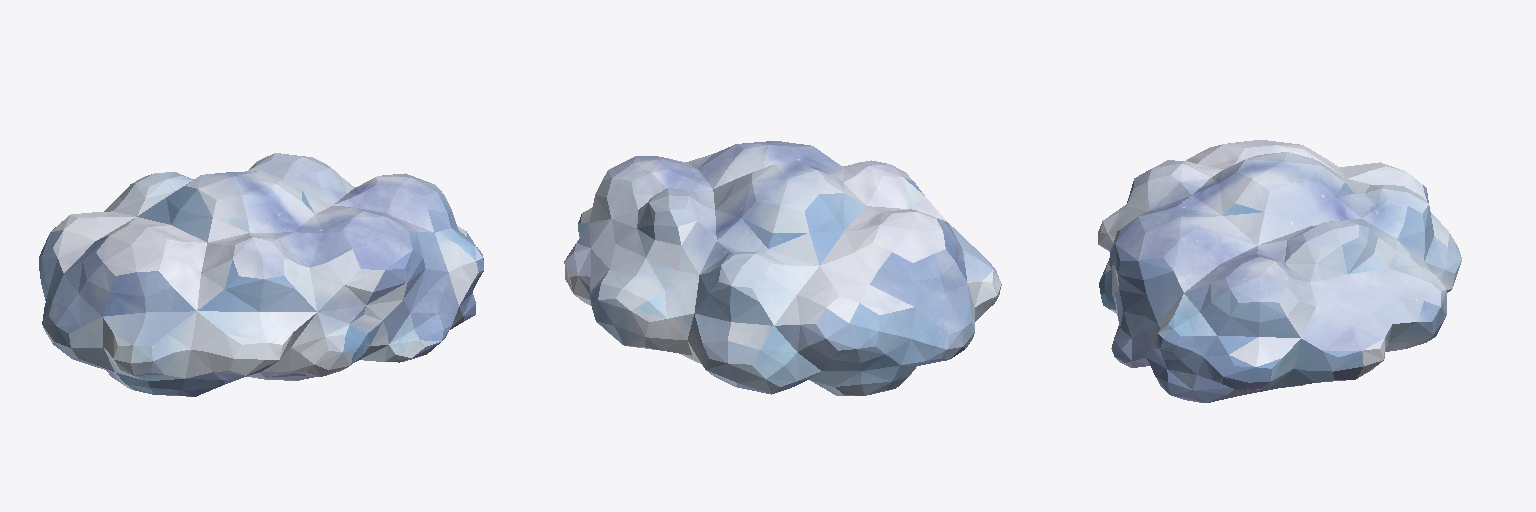
3 renders of one model, left to right at view 1: azimuth 30°, elevation 25°; view 2: azimuth 150°, elevation 25°; view 3: azimuth 270°, elevation 25°, orthographic.
Visible parts, largest first — view 1: cloud.001; view 2: cloud.001; view 3: cloud.001.
Part boxes in pixels (x1,y1,x2,y2): cloud.001: (39,153,483,396); cloud.001: (564,141,1001,395); cloud.001: (1098,140,1461,402).
Bounding box in the file's own units: 12.64 × 5.08 × 10.03.
1 materials, 1 textured.